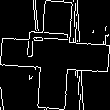L_E: (29, 38, 81, 72)
